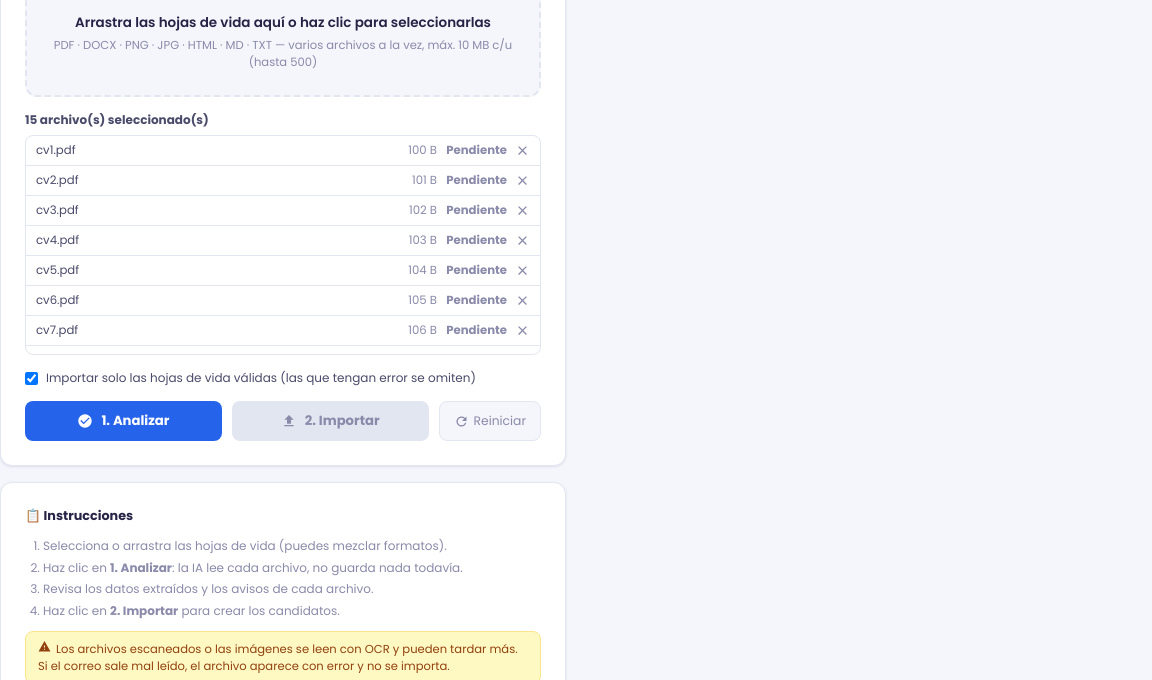
Test case: ImportacionCV › analiza en lotes de 10, importa solo los válidos y manda usuario y banderas
Earlier steps of the test are not shown.
(page scrolled)
Click the button "1. Analizar" at (123, 421), box [25,401,222,441]
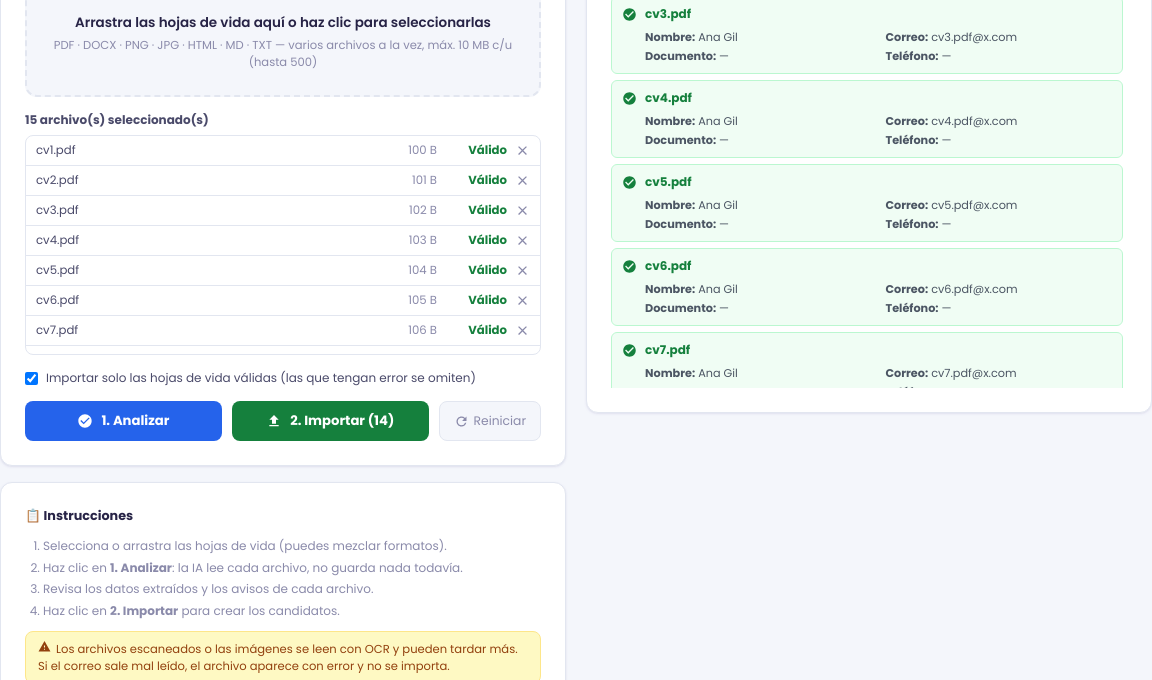
Click the button "2. Importar (14)" at (330, 421), box [232,401,429,441]
(page scrolled)
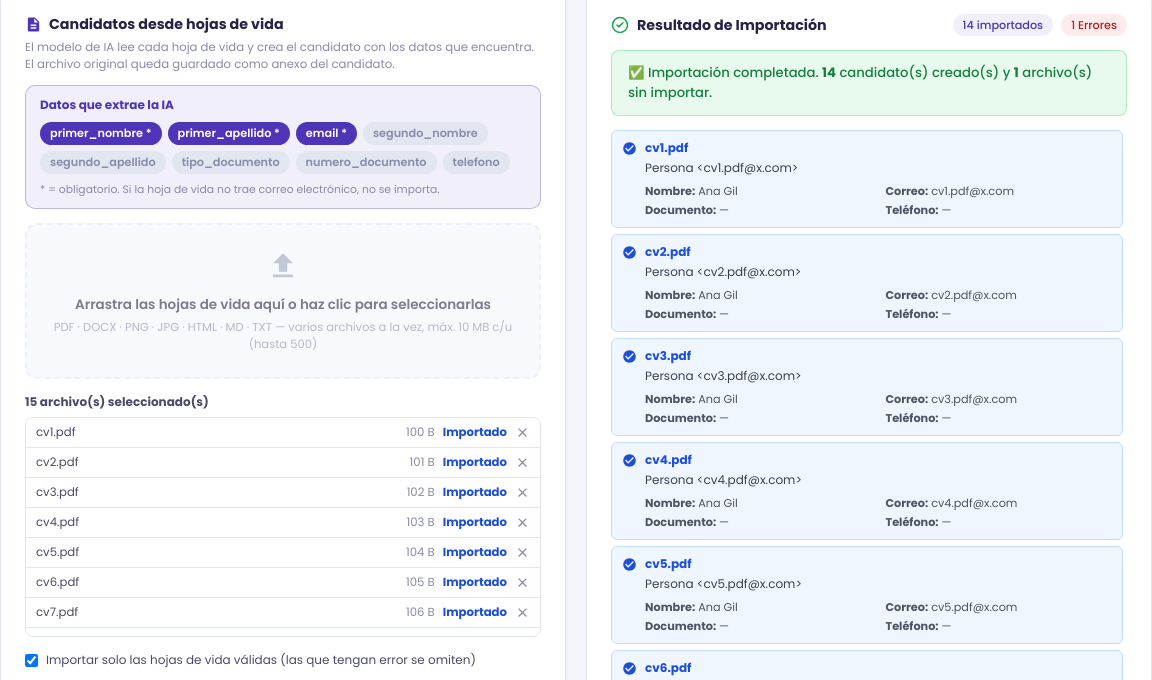
Expected: the text "Importación completada" is shown, [628,63,822,82]
Expected: the text "14 importados" is shown, [953,14,1053,36]
